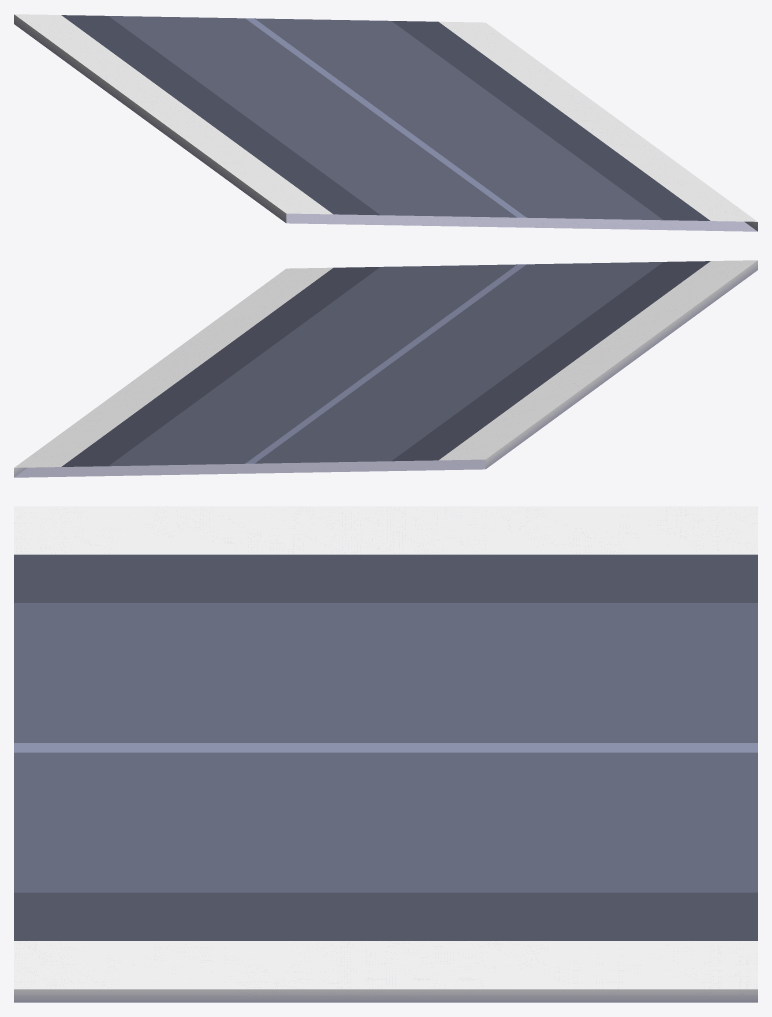
The model's file is road-Straight-HalfBankedRight-HalfBankedRight-Even-Center-Size1.glb.
The picture shows the model from 3 angles, top to bottom: view 1: azimuth 30°, elevation 25°; view 2: azimuth 150°, elevation 25°; view 3: azimuth 270°, elevation 25°; orthographic projection. The views are drawn at different scales.
Visible parts, largest first — view 1: road-Straight-HalfBankedRight-HalfBankedRight-Even-Center-Si; view 2: road-Straight-HalfBankedRight-HalfBankedRight-Even-Center-Si; view 3: road-Straight-HalfBankedRight-HalfBankedRight-Even-Center-Si.
Boxes of the visible parts, <box> form: road-Straight-HalfBankedRight-HalfBankedRight-Even-Center-Si: <box>14,14,757,231</box>; road-Straight-HalfBankedRight-HalfBankedRight-Even-Center-Si: <box>14,260,757,477</box>; road-Straight-HalfBankedRight-HalfBankedRight-Even-Center-Si: <box>14,506,757,1002</box>.
Size of the model in its own units: 1 by 0.27 by 1.
Materials: 1 (1 with a texture image).
